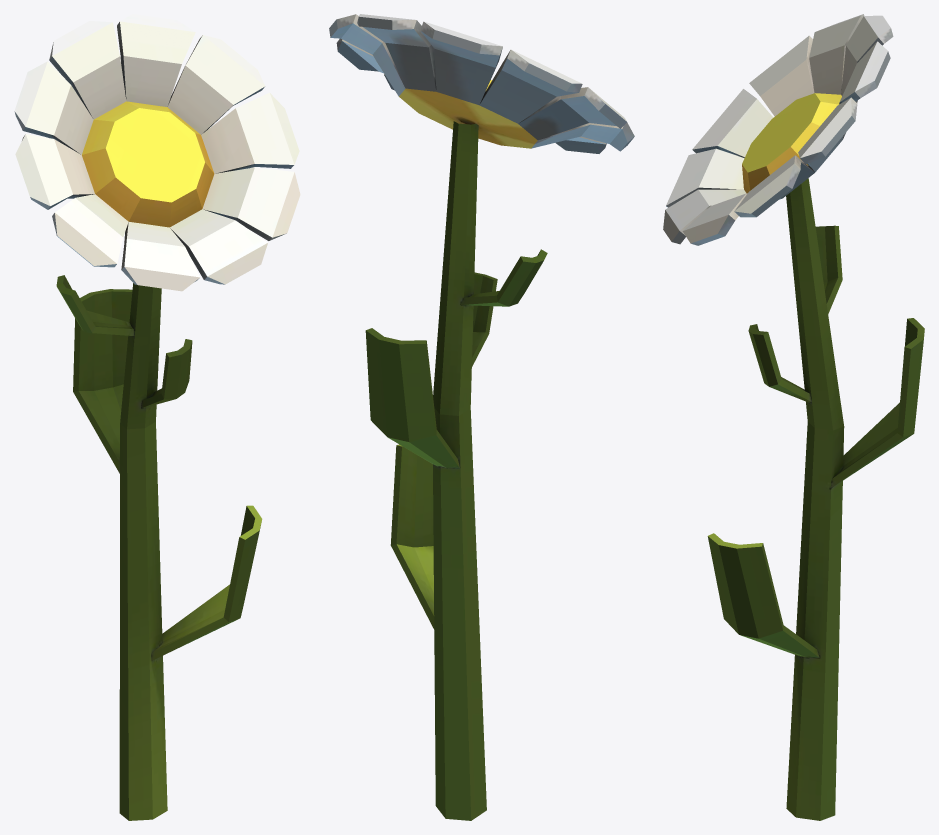
Rendered from daisy.glb.
3 renders of one model, left to right at view 1: azimuth 30°, elevation 25°; view 2: azimuth 150°, elevation 25°; view 3: azimuth 270°, elevation 25°, orthographic. The views are drawn at different scales.
Visible parts, largest first — view 1: daisy; view 2: daisy; view 3: daisy.
Part boxes in pixels (x1,y1,x2,y2): daisy: [14, 14, 300, 820]; daisy: [329, 14, 634, 820]; daisy: [663, 14, 924, 820].
Bounding box in the file's own units: 0.144 × 0.4 × 0.1218.
Materials: 1 (1 with a texture image).
